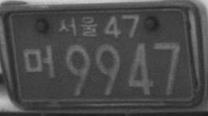4: (127, 41, 155, 95), (102, 14, 122, 39)
7: (155, 40, 184, 96), (122, 12, 142, 38)
9: (92, 42, 122, 97), (63, 42, 90, 96)
머: (21, 43, 57, 79)
서울_O: (57, 14, 99, 38)
